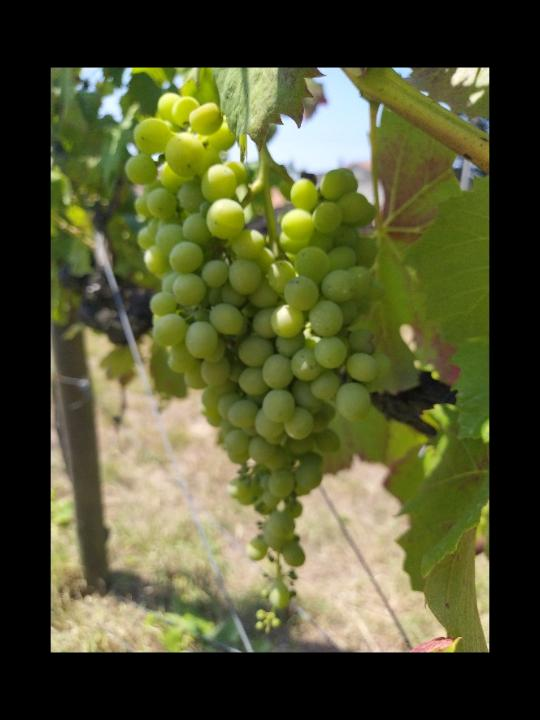grape: (125, 90, 378, 639)
